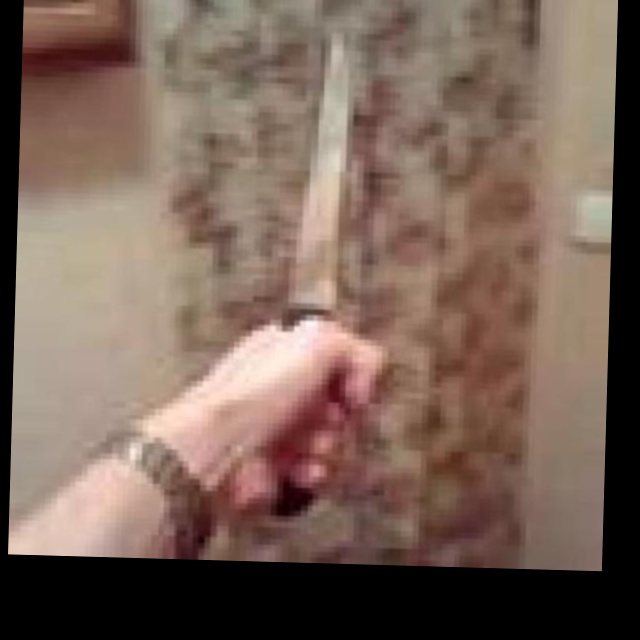Sharp-Object: (275, 36, 359, 526)
